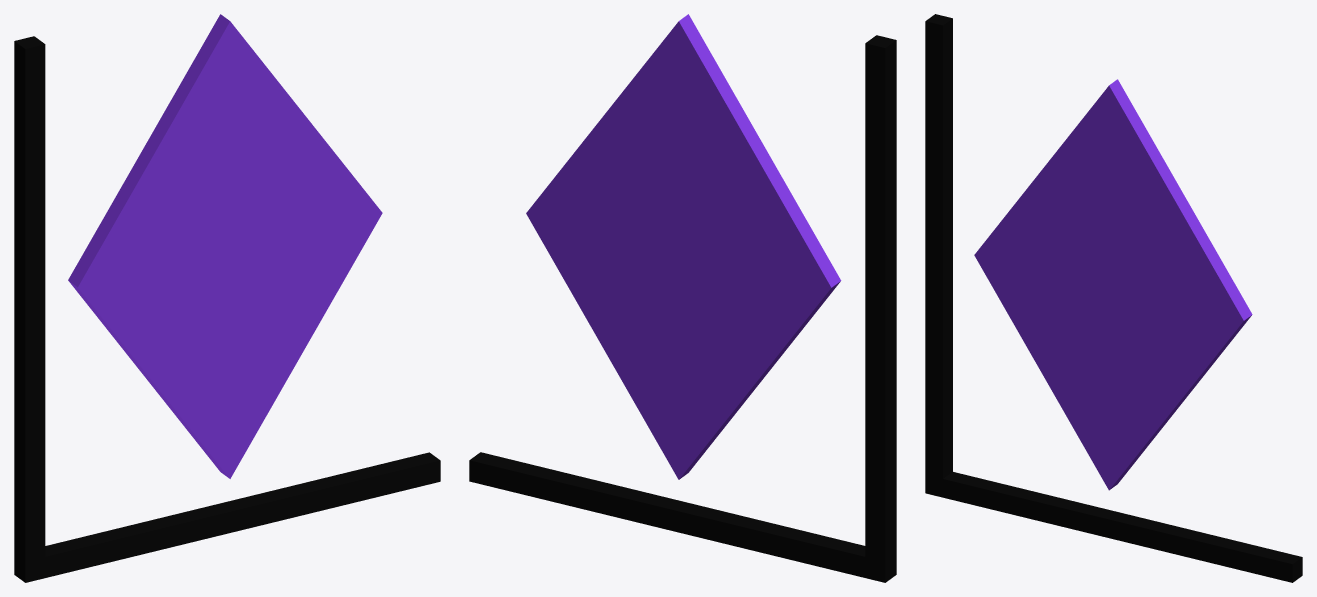
Rendered from rombo.fbx.
The picture shows the model from 3 angles, left to right: view 1: azimuth 30°, elevation 25°; view 2: azimuth 150°, elevation 25°; view 3: azimuth 330°, elevation 25°; orthographic projection. The views are drawn at different scales.
Parts seen in each view (by area): view 1: Object.003, Object.004; view 2: Object.003, Object.004; view 3: Object.003, Object.004.
Part boxes in pixels (x1,y1,x2,y2): Object.003: (68,14,382,478); Object.004: (14,36,440,582); Object.003: (526,14,841,479); Object.004: (469,35,896,582); Object.003: (974,79,1252,490); Object.004: (925,14,1302,582).
Size of the model in its own units: 4882 by 5999 by 228.
